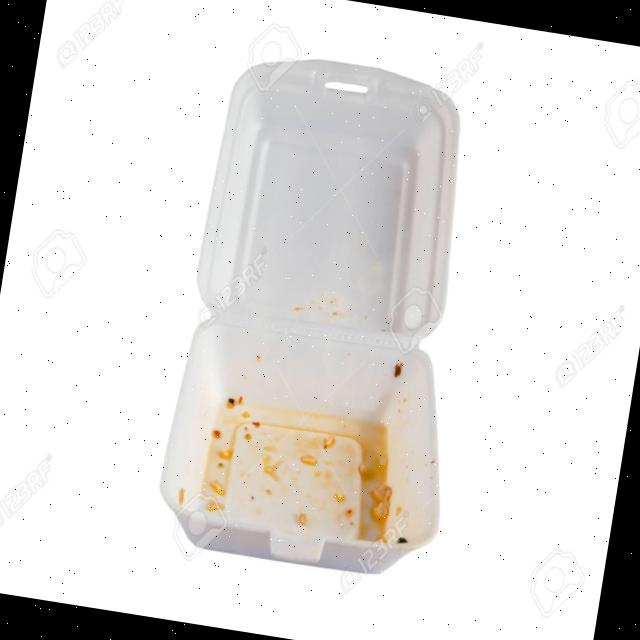styrofoam: (149, 41, 509, 587)
